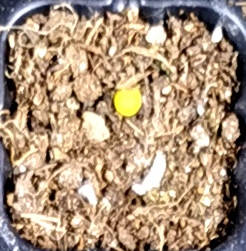chilli seed: (113, 88, 141, 116)
